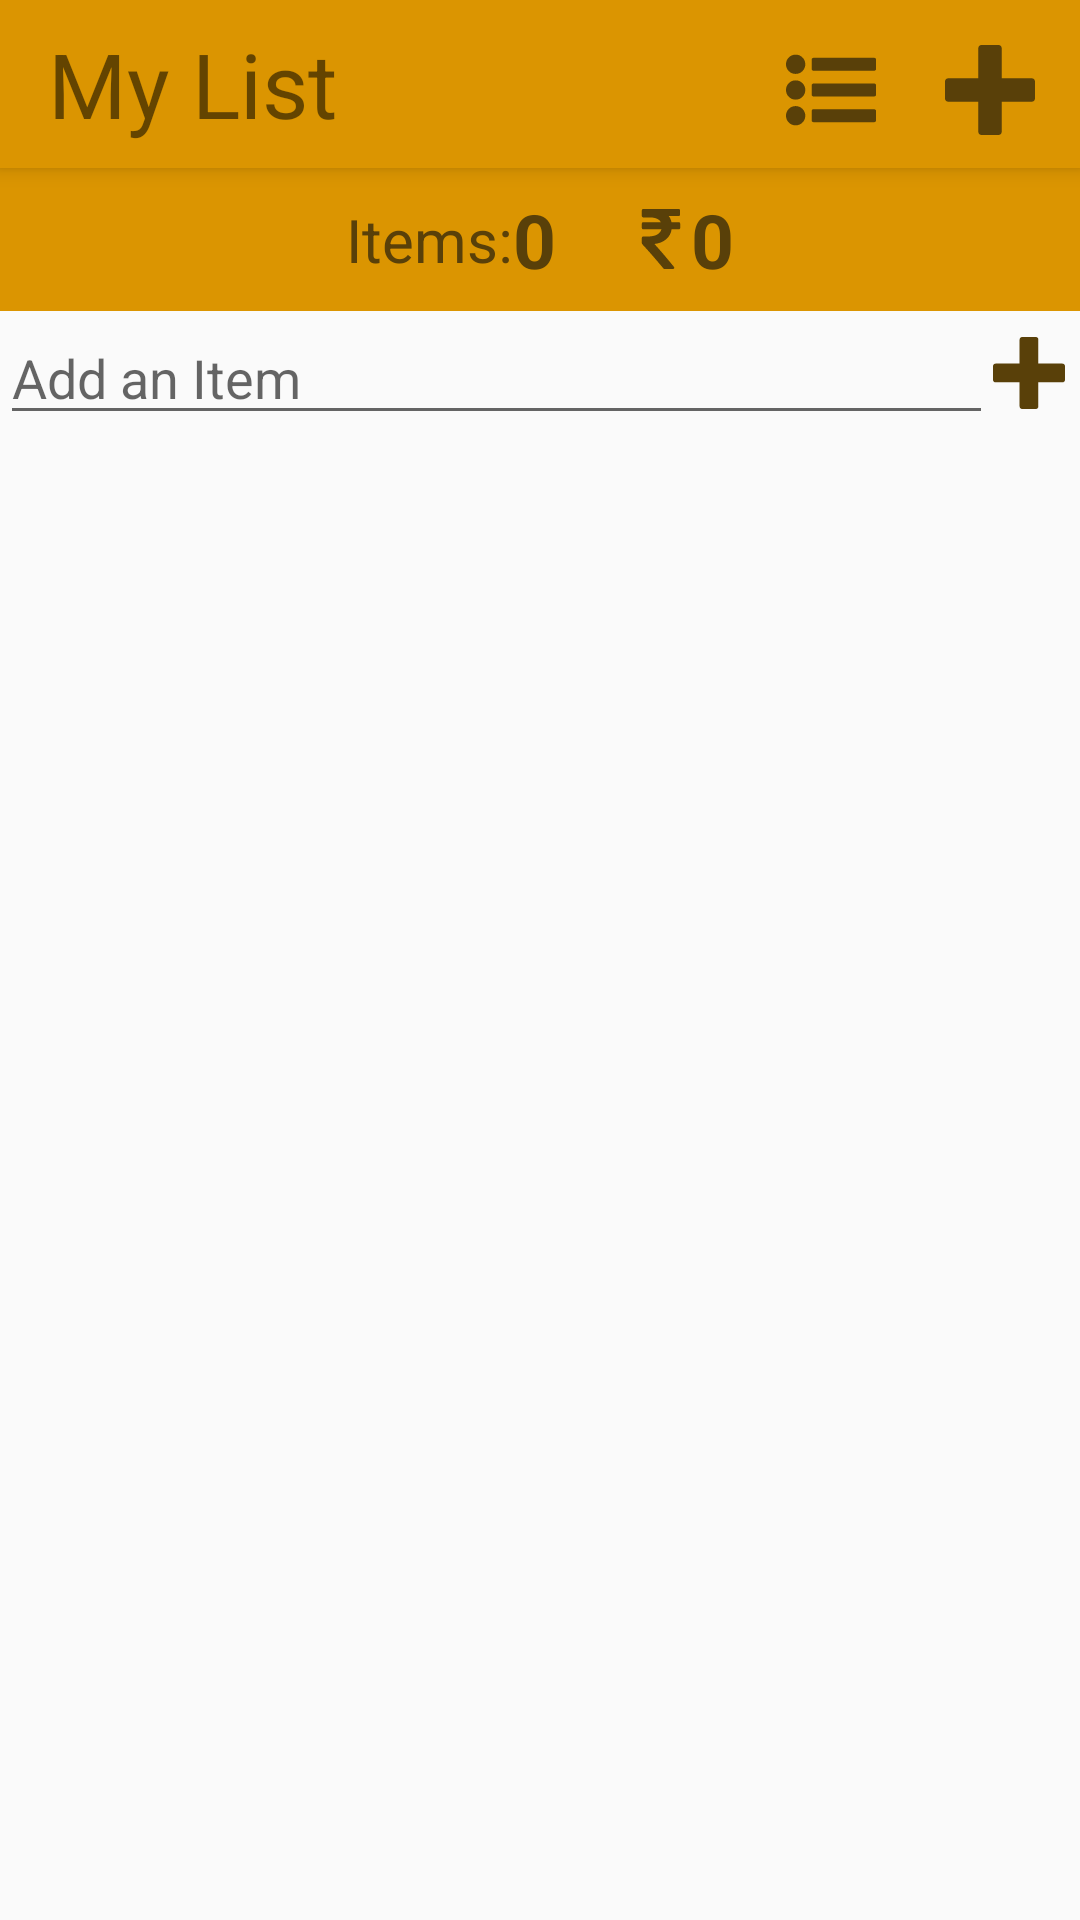

Where to tap for icons on this 1080×1920 app screen, as (x,y):
list with dots: (831,90)
plus symbol: (990,90), (1029,373)
rupee: (661,239)
